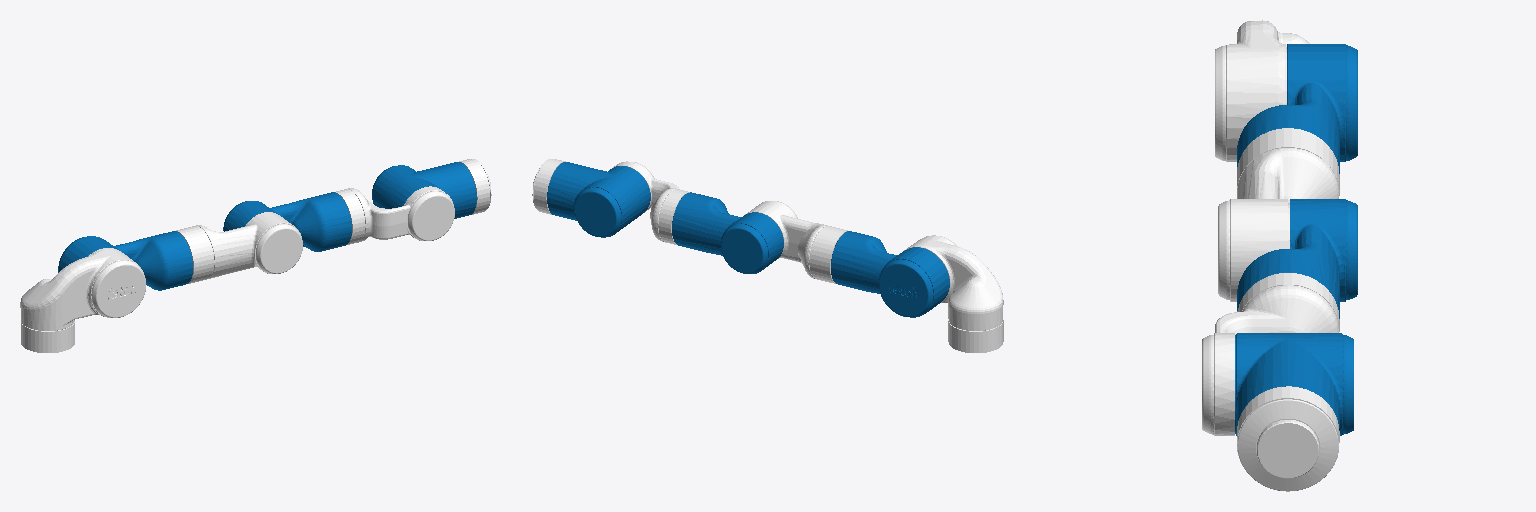
URDF robot description (fetch):
<?xml version="1.0" ?>
<robot name="fetch">
  <link name="base_link">
    <inertial>
      <origin rpy="0 0 0" xyz="-0.0036 0.0 0.0014" />
      <mass value="70.1294" />
      <inertia ixx="1.225" ixy="0.0099" ixz="0.0062" iyy="1.2853" iyz="-0.0034" izz="0.987" />
    </inertial>
    <visual>
      <origin rpy="0 0 0" xyz="0 0 0" />
      <geometry>
        <mesh filename="../meshes/base_link.dae" />
      </geometry>
      <material name="mat0">
        <color rgba="0.356 0.361 0.376 1" />
      </material>
    </visual>
    <collision>
      <origin rpy="0 0 0" xyz="0 0 0.4" />
      <geometry>
        <!--<mesh filename="../meshes/base_link_collision.stl" />-->
        <cylinder length="0.8" radius="0.3"/>
      </geometry>
    </collision>
  </link>
  <link name="shoulder_pan_link">
    <inertial>
      <origin rpy="0 0 0" xyz="0.0927 -0.0056 0.0564" />
      <mass value="2.5587" />
      <inertia ixx="0.0043" ixy="-0.0001" ixz="0.001" iyy="0.0087" iyz="-0.0001" izz="0.0087" />
    </inertial>
    <visual>
      <origin rpy="0 0 0" xyz="0 0 0" />
      <geometry>
        <mesh filename="../meshes/shoulder_pan_link.dae" />
      </geometry>
      <material name="6">
        <color rgba="1 1 1 1" />
      </material>
    </visual>
  </link>
  <joint name="shoulder_pan_joint" type="revolute">
    <origin rpy="0 0 0" xyz="0.119525 0 0.84858" />
    <parent link="base_link" />
    <child link="shoulder_pan_link" />
    <axis xyz="0 0 1" />
    <dynamics damping="1.0" />
    <limit effort="33.82" lower="-1.6056" upper="1.6056" velocity="1.256" />
  </joint>
  <link name="shoulder_lift_link">
    <inertial>
      <origin rpy="0 0 0" xyz="0.1432 0.0072 -0.0001" />
      <mass value="2.6615" />
      <inertia ixx="0.0028" ixy="-0.0021" ixz="-0.0" iyy="0.0111" iyz="-0.0" izz="0.0112" />
    </inertial>
    <visual>
      <origin rpy="0 0 0" xyz="0 0 0" />
      <geometry>
        <mesh filename="../meshes/shoulder_lift_link.dae" />
      </geometry>
      <material name="7">
        <color rgba="0.086 0.506 0.767 1" />
      </material>
    </visual>
    <collision>
      <origin rpy="0 0 0" xyz="0 0 0" />
      <geometry>
        <mesh filename="../meshes/shoulder_lift_link_collision.STL" />
      </geometry>
    </collision>
  </link>
  <joint name="shoulder_lift_joint" type="revolute">
    <origin rpy="0 0 0" xyz="0.117 0 0.0599999999999999" />
    <parent link="shoulder_pan_link" />
    <child link="shoulder_lift_link" />
    <axis xyz="0 1 0" />
    <dynamics damping="1.0" />
    <limit effort="131.76" lower="-1.221" upper="1.518" velocity="1.454" />
  </joint>
  <link name="upperarm_roll_link">
    <inertial>
      <origin rpy="0 0 0" xyz="0.1165 0.0014 0.0000" />
      <mass value="2.3311" />
      <inertia ixx="0.0019" ixy="-0.0001" ixz="0.0" iyy="0.0045" iyz="0.0" izz="0.0047" />
    </inertial>
    <visual>
      <origin rpy="0 0 0" xyz="0 0 0" />
      <geometry>
        <mesh filename="../meshes/upperarm_roll_link.dae" />
      </geometry>
      <material name="8">
        <color rgba="1 1 1 1" />
      </material>
    </visual>
    <collision>
      <origin rpy="0 0 0" xyz="0 0 0" />
      <geometry>
        <mesh filename="../meshes/upperarm_roll_link_collision.STL" />
      </geometry>
    </collision>
  </link>
  <joint name="upperarm_roll_joint" type="continuous">
    <origin rpy="0 0 0" xyz="0.219 0 0" />
    <parent link="shoulder_lift_link" />
    <child link="upperarm_roll_link" />
    <axis xyz="1 0 0" />
    <dynamics damping="5.0" />
    <limit effort="76.94" velocity="1.571" />
  </joint>
  <link name="elbow_flex_link">
    <inertial>
      <origin rpy="0 0 0" xyz="0.1279 0.0073 0.0000" />
      <mass value="2.1299" />
      <inertia ixx="0.0024" ixy="-0.0016" ixz="0.0" iyy="0.0082" iyz="-0.0" izz="0.0084" />
    </inertial>
    <visual>
      <origin rpy="0 0 0" xyz="0 0 0" />
      <geometry>
        <mesh filename="../meshes/elbow_flex_link.dae" />
      </geometry>
      <material name="9">
        <color rgba="0.086 0.506 0.767 1" />
      </material>
    </visual>
    <collision>
      <origin rpy="0 0 0" xyz="0 0 0" />
      <geometry>
        <mesh filename="../meshes/elbow_flex_link_collision.STL" />
      </geometry>
    </collision>
  </link>
  <joint name="elbow_flex_joint" type="revolute">
    <origin rpy="0 0 0" xyz="0.133 0 0" />
    <parent link="upperarm_roll_link" />
    <child link="elbow_flex_link" />
    <axis xyz="0 1 0" />
    <dynamics damping="1.0" />
    <limit effort="66.18" lower="-2.251" upper="2.251" velocity="1.521" />
  </joint>
  <link name="forearm_roll_link">
    <inertial>
      <origin rpy="0 0 0" xyz="0.1097 -0.0266 0.0000" />
      <mass value="1.6563" />
      <inertia ixx="0.0016" ixy="-0.0003" ixz="0.0" iyy="0.003" iyz="-0.0" izz="0.0035" />
    </inertial>
    <visual>
      <origin rpy="0 0 0" xyz="0 0 0" />
      <geometry>
        <mesh filename="../meshes/forearm_roll_link.dae" />
      </geometry>
      <material name="10">
        <color rgba="1 1 1 1" />
      </material>
    </visual>
    <collision>
      <origin rpy="0 0 0" xyz="0 0 0" />
      <geometry>
        <mesh filename="../meshes/forearm_roll_link_collision.STL" />
      </geometry>
    </collision>
  </link>
  <joint name="forearm_roll_joint" type="continuous">
    <origin rpy="0 0 0" xyz="0.197 0 0" />
    <parent link="elbow_flex_link" />
    <child link="forearm_roll_link" />
    <axis xyz="1 0 0" />
    <dynamics damping="5.0" />
    <limit effort="29.35" velocity="1.571" />
  </joint>
  <link name="wrist_flex_link">
    <inertial>
      <origin rpy="0 0 0" xyz="0.0882 0.0009 -0.0001" />
      <mass value="1.725" />
      <inertia ixx="0.0018" ixy="-0.0001" ixz="-0.0" iyy="0.0042" iyz="0.0" izz="0.0042" />
    </inertial>
    <visual>
      <origin rpy="0 0 0" xyz="0 0 0" />
      <geometry>
        <mesh filename="../meshes/wrist_flex_link.dae" />
      </geometry>
      <material name="11">
        <color rgba="0.086 0.506 0.767 1" />
      </material>
    </visual>
    <collision>
      <origin rpy="0 0 0" xyz="0 0 0" />
      <geometry>
        <mesh filename="../meshes/wrist_flex_link_collision.STL" />
      </geometry>
    </collision>
  </link>
  <joint name="wrist_flex_joint" type="revolute">
    <origin rpy="0 0 0" xyz="0.1245 0 0" />
    <parent link="forearm_roll_link" />
    <child link="wrist_flex_link" />
    <axis xyz="0 1 0" />
    <dynamics damping="1.0" />
    <limit effort="25.7" lower="-2.16" upper="2.16" velocity="2.268" />
  </joint>
  <link name="wrist_roll_link">
    <inertial>
      <origin rpy="0 0 0" xyz="0.0095 0.0004 -0.0002" />
      <mass value="0.1354" />
      <inertia ixx="0.0001" ixy="0.0" ixz="0.0" iyy="0.0001" iyz="0.0" izz="0.0001" />
    </inertial>
    <visual>
      <origin rpy="0 0 0" xyz="0 0 0" />
      <geometry>
        <mesh filename="../meshes/wrist_roll_link.dae" />
      </geometry>
      <material name="12">
        <color rgba="1 1 1 1" />
      </material>
    </visual>
    <collision>
      <origin rpy="0 0 0" xyz="0 0 0" />
      <geometry>
        <mesh filename="../meshes/wrist_roll_link_collision.STL" />
      </geometry>
    </collision>
  </link>
  <joint name="wrist_roll_joint" type="continuous">
    <origin rpy="0 0 0" xyz="0.1385 0 0" />
    <parent link="wrist_flex_link" />
    <child link="wrist_roll_link" />
    <axis xyz="1 0 0" />
    <limit effort="7.36" velocity="2.268" />
    <dynamics damping="5.0" />
  </joint>
  <!-- ee_link: virtual -->
  <joint name="virtual_ee_joint" type="fixed">
    <parent link="wrist_roll_link"/>
    <child link="virtual_ee_link"/>
    <origin rpy="0 0 0" xyz="0 0 0.045"/>
  </joint>
  <link name="virtual_ee_link">
    <inertial>
      <origin rpy="0 0 0" xyz="0 0 0"/>
      <mass value="0"/>
      <inertia ixx="0" ixy="0" ixz="0" iyy="0" iyz="0" izz="0"/>
    </inertial>
  </link>
</robot>

--- Render facts (derived) ---
3 views of the same robot in one strip: view 1: azimuth 30°, elevation 25°; view 2: azimuth 150°, elevation 25°; view 3: azimuth 270°, elevation 25° (orthographic).
Robot: fetch — 9 links, 8 joints (4 revolute, 3 continuous, 1 fixed); root link base_link; default pose: all joints at 0.
Visible links, largest first — view 1: shoulder_pan_link, upperarm_roll_link, forearm_roll_link, elbow_flex_link, shoulder_lift_link, wrist_flex_link, wrist_roll_link; view 2: shoulder_lift_link, elbow_flex_link, wrist_flex_link, shoulder_pan_link, upperarm_roll_link, forearm_roll_link, wrist_roll_link; view 3: upperarm_roll_link, forearm_roll_link, wrist_roll_link, shoulder_lift_link, wrist_flex_link, elbow_flex_link, shoulder_pan_link.
Boxes of the visible links, box(x1,y1,x2,y2) form: shoulder_pan_link: box(20, 248, 145, 352); upperarm_roll_link: box(176, 212, 302, 283); forearm_roll_link: box(335, 186, 454, 244); elbow_flex_link: box(223, 192, 351, 251); shoulder_lift_link: box(58, 231, 192, 290); wrist_flex_link: box(372, 162, 476, 218); wrist_roll_link: box(459, 159, 491, 214); shoulder_lift_link: box(831, 231, 949, 317); elbow_flex_link: box(672, 192, 783, 273); wrist_flex_link: box(547, 162, 650, 237); shoulder_pan_link: box(904, 235, 1003, 352); upperarm_roll_link: box(745, 201, 847, 283); forearm_roll_link: box(613, 161, 689, 244); wrist_roll_link: box(532, 159, 565, 214); upperarm_roll_link: box(1218, 128, 1339, 301); forearm_roll_link: box(1202, 273, 1339, 435); wrist_roll_link: box(1237, 386, 1339, 491); shoulder_lift_link: box(1237, 44, 1357, 173); wrist_flex_link: box(1235, 333, 1353, 435); elbow_flex_link: box(1237, 199, 1357, 318); shoulder_pan_link: box(1215, 20, 1309, 161).
Size in the robot's own frame: 1 by 0.1575 by 0.1685 metres.
7 mesh visuals loaded from 8 distinct referenced files (7 Collada DAE); not drawn: 1 (reference not matched to a file when rendering).
